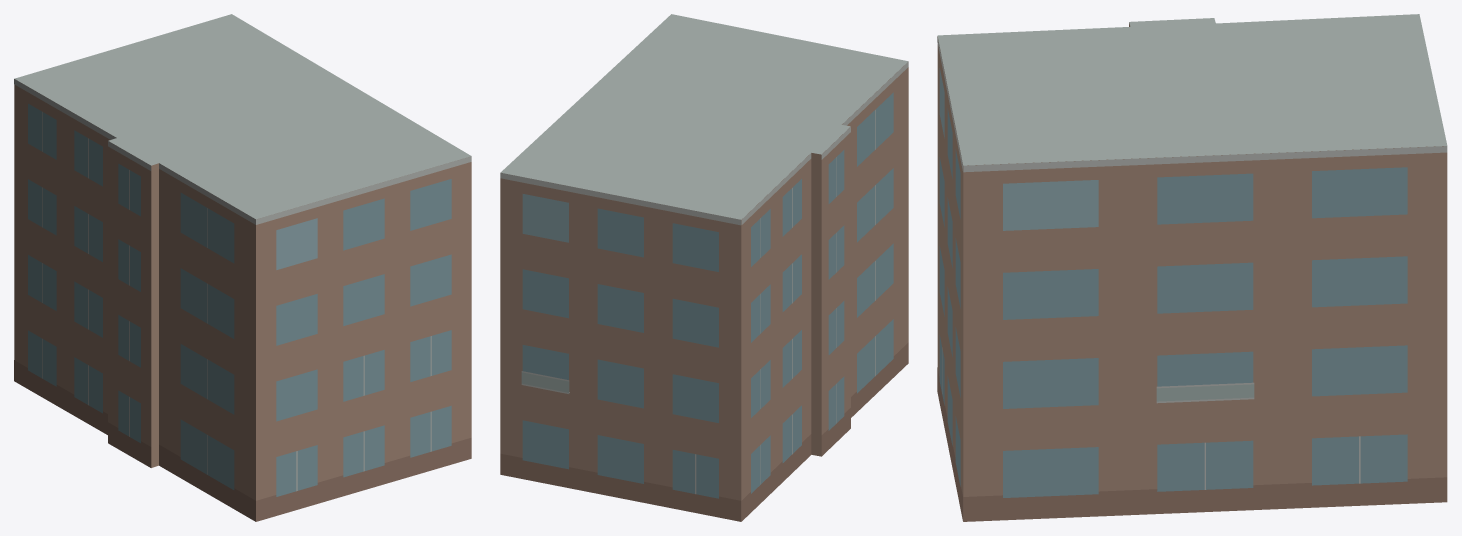
The model's file is survey-upis-32513375.glb.
3 renders of one model, left to right at view 1: azimuth 30°, elevation 25°; view 2: azimuth 150°, elevation 25°; view 3: azimuth 270°, elevation 25°, orthographic. The views are drawn at different scales.
Parts seen in each view (by area): view 1: survey-upis-32513375.tmp; view 2: survey-upis-32513375.tmp; view 3: survey-upis-32513375.tmp.
Boxes of the visible parts, x1,y1,x2,y2 form: survey-upis-32513375.tmp: (14,14,471,521); survey-upis-32513375.tmp: (500,14,908,521); survey-upis-32513375.tmp: (937,14,1447,521).
Bounding box in the file's own units: 11.97 × 13.1 × 17.01.
